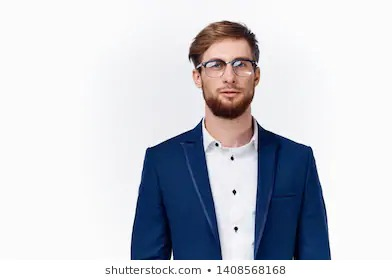F_M_suit jacket: (130, 112, 332, 260)
